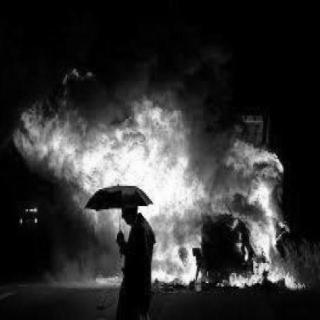Fire: (11, 91, 308, 293)
